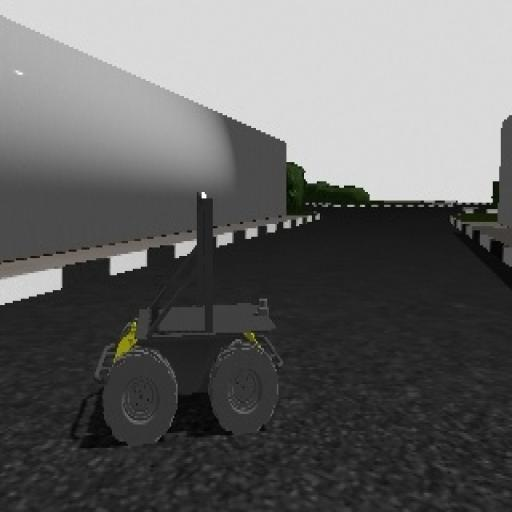huskya200: (67, 183, 315, 479)
